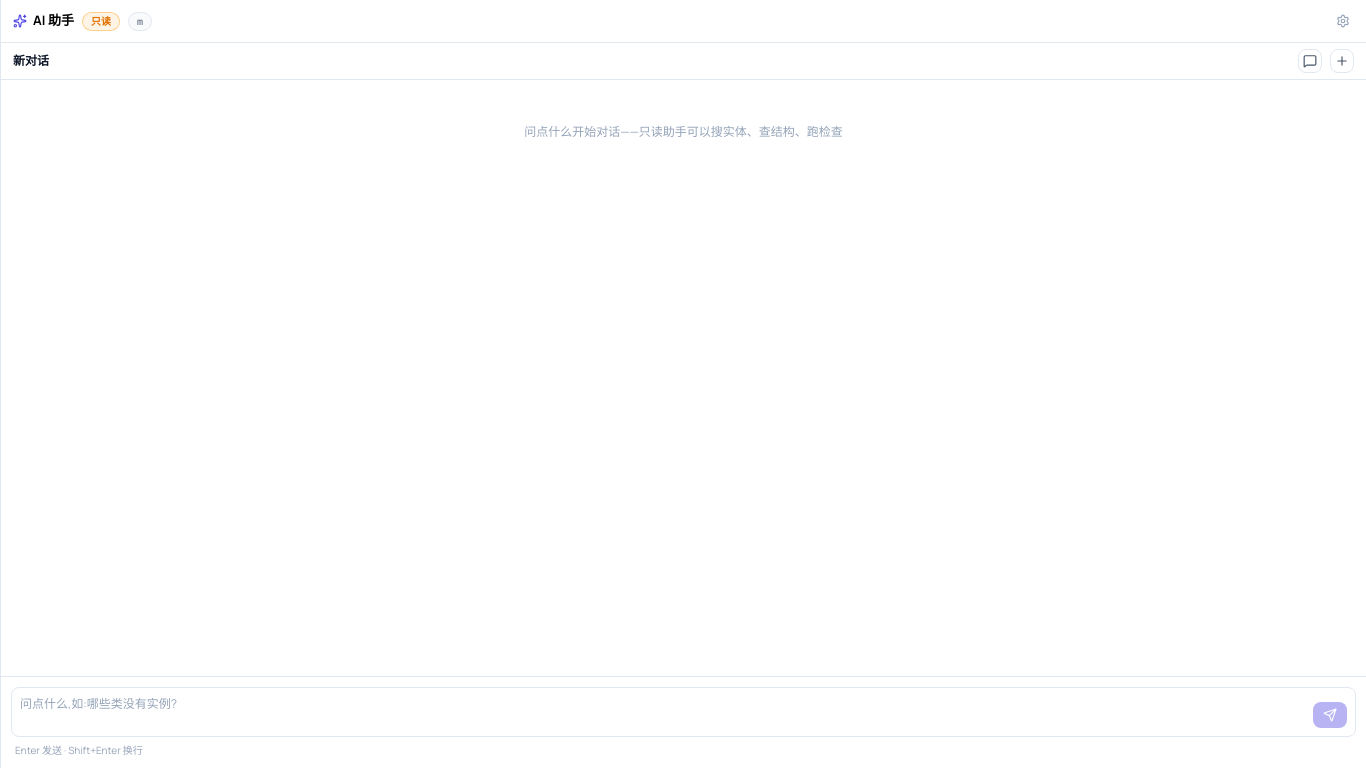
Test: AiChatDrawer › shows the stop button while streaming and finishes when the stream closes
The width and height of the screenshot is (1366, 768).
Check: the text "AI 助手" is shown, box [13,11,74,31]
In the text box with placeholder "问点什么,如:哪些类没有实例?": (662, 712) [20,696,1305,728], type "慢问题"
Then press Enter
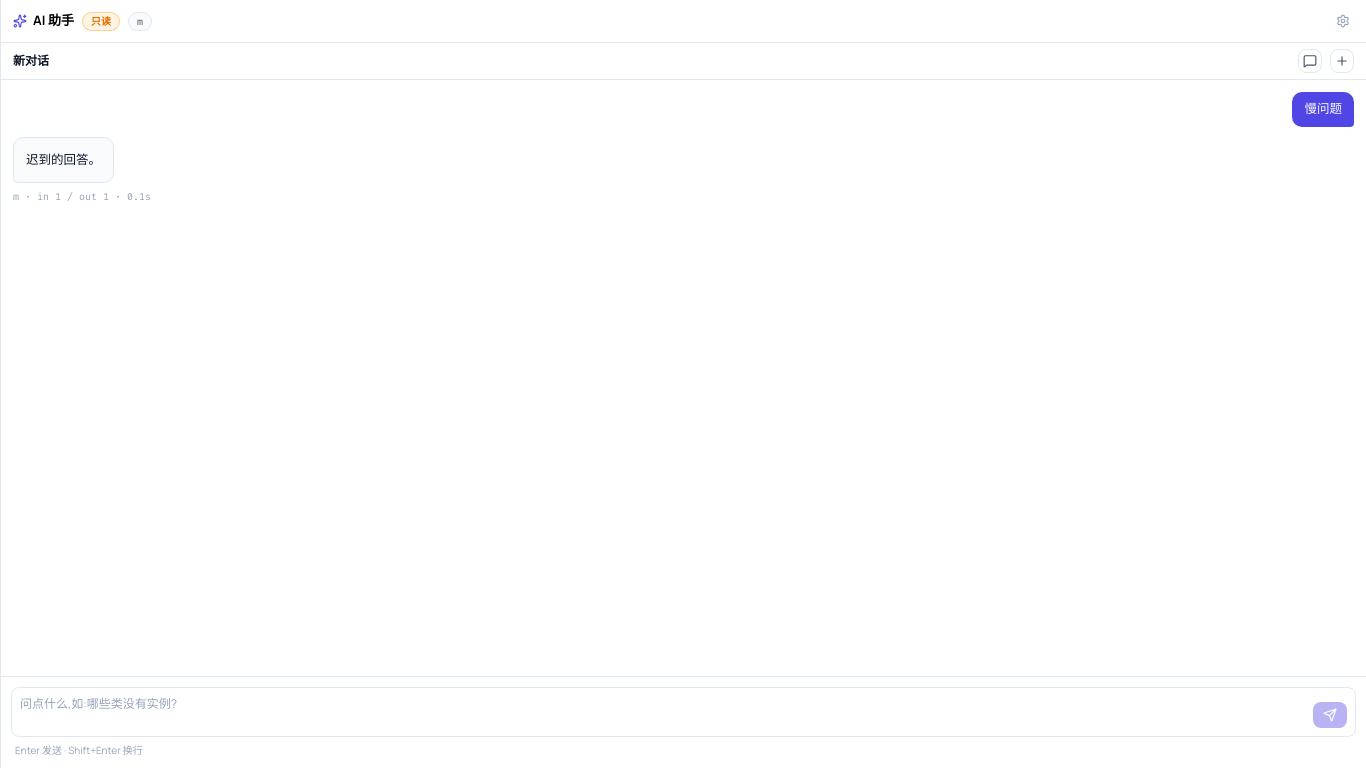
Check: the button named "停止" is shown, box [1313,702,1347,728]
Check: the text "迟到的回答。" is shown, box [26,150,101,170]
